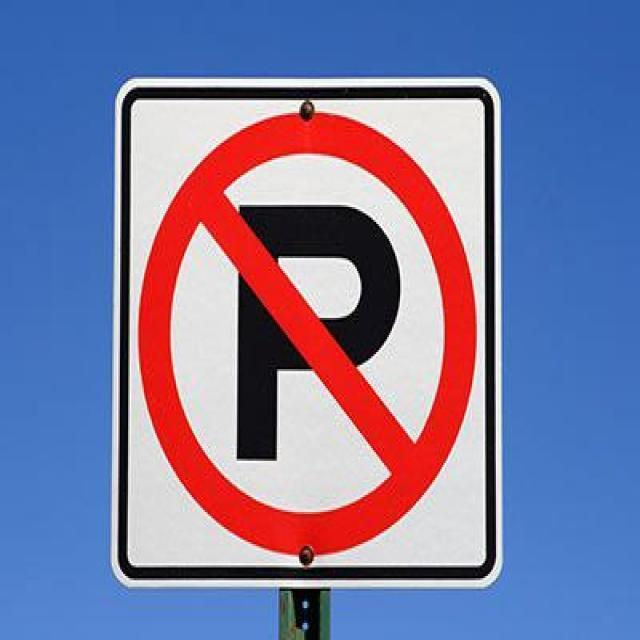no parking: (138, 108, 481, 561)
